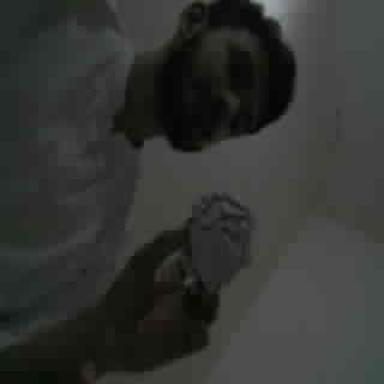paper: (181, 195, 253, 290)
